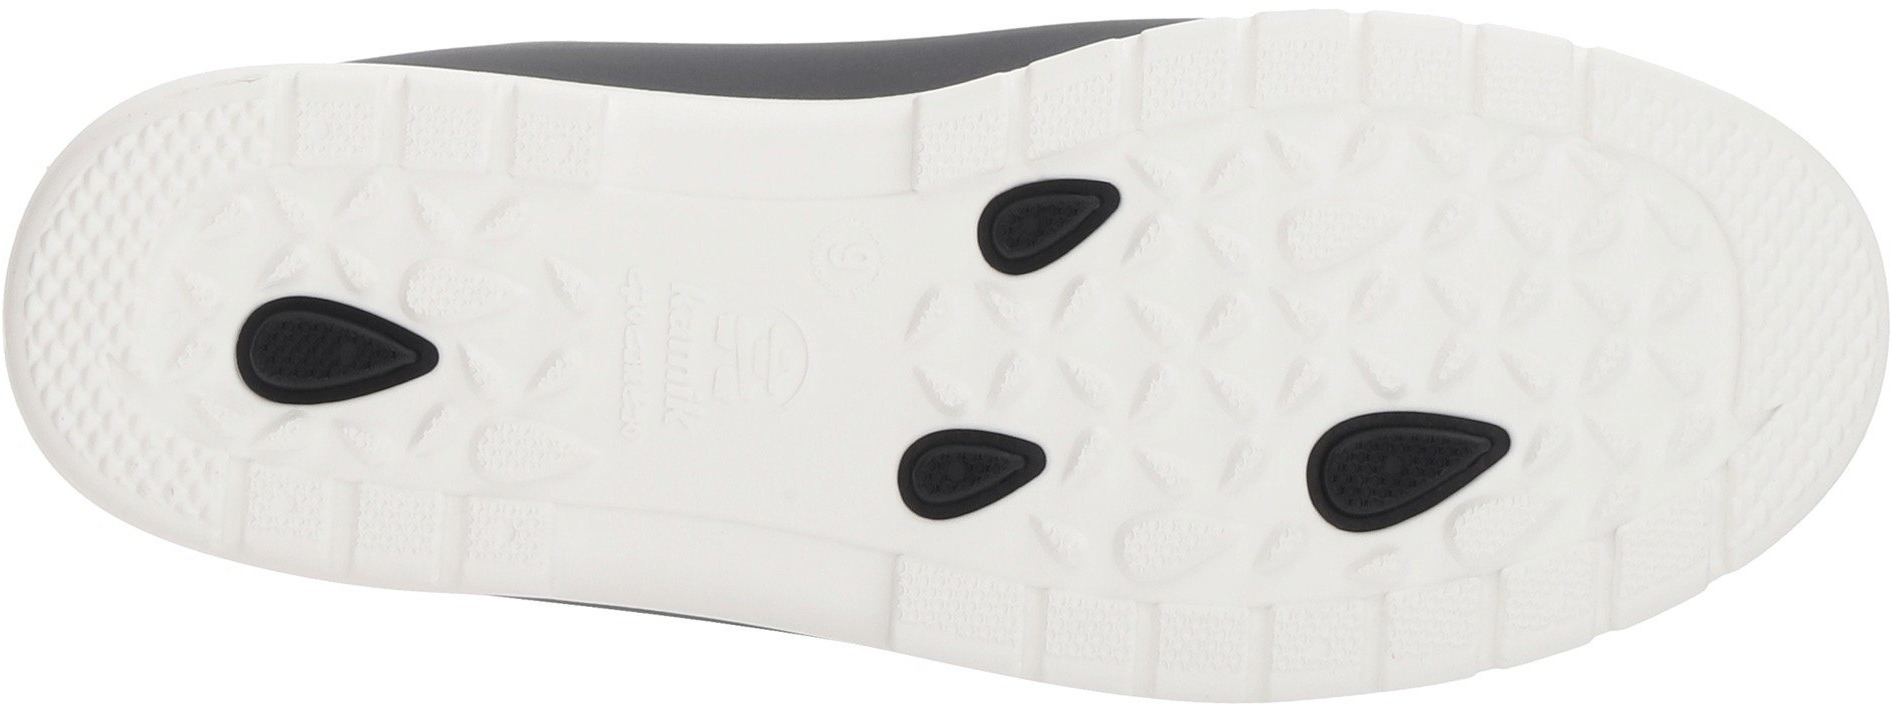other: (27, 216, 173, 366), (690, 515, 814, 610)
quad: (887, 558, 1035, 684), (1361, 1, 1500, 113)
text: (609, 270, 806, 442), (828, 239, 888, 293)
